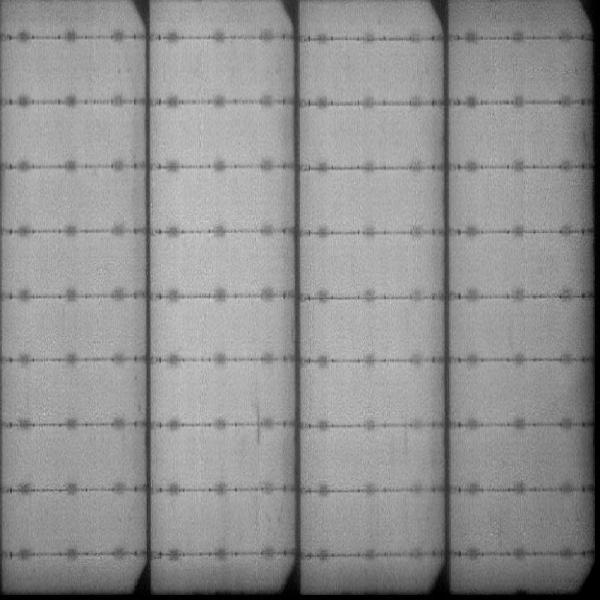scratch: (251, 397, 263, 445)
